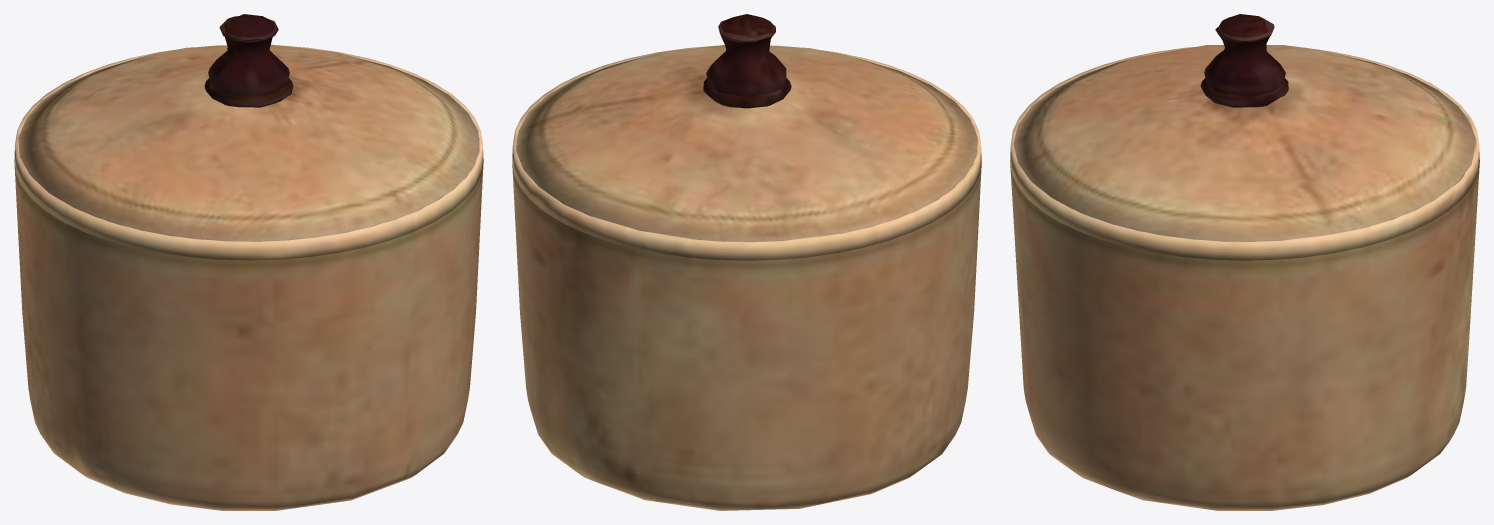
The model's file is th_messingtopf.glb.
The picture shows the model from 3 angles, left to right: view 1: azimuth 30°, elevation 25°; view 2: azimuth 150°, elevation 25°; view 3: azimuth 270°, elevation 25°; orthographic projection.
Parts seen in each view (by area): view 1: brass_pot_01; view 2: brass_pot_01; view 3: brass_pot_01.
Boxes of the visible parts, <box> form: brass_pot_01: <box>14,14,483,510</box>; brass_pot_01: <box>512,14,981,510</box>; brass_pot_01: <box>1010,14,1479,510</box>.
Size of the model in its own units: 0.2993 by 0.2909 by 0.2992.
Materials: 1 (1 with a texture image).
